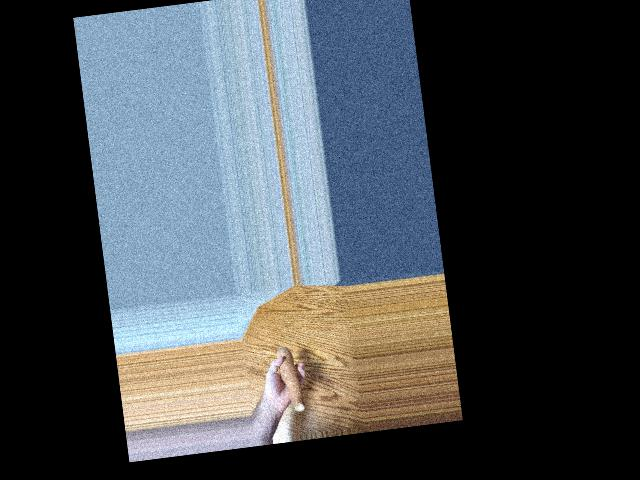sweet_potato: (275, 346, 303, 412)
